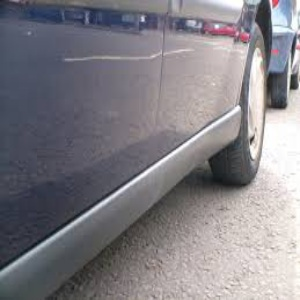door_scratch: (49, 36, 206, 69)
